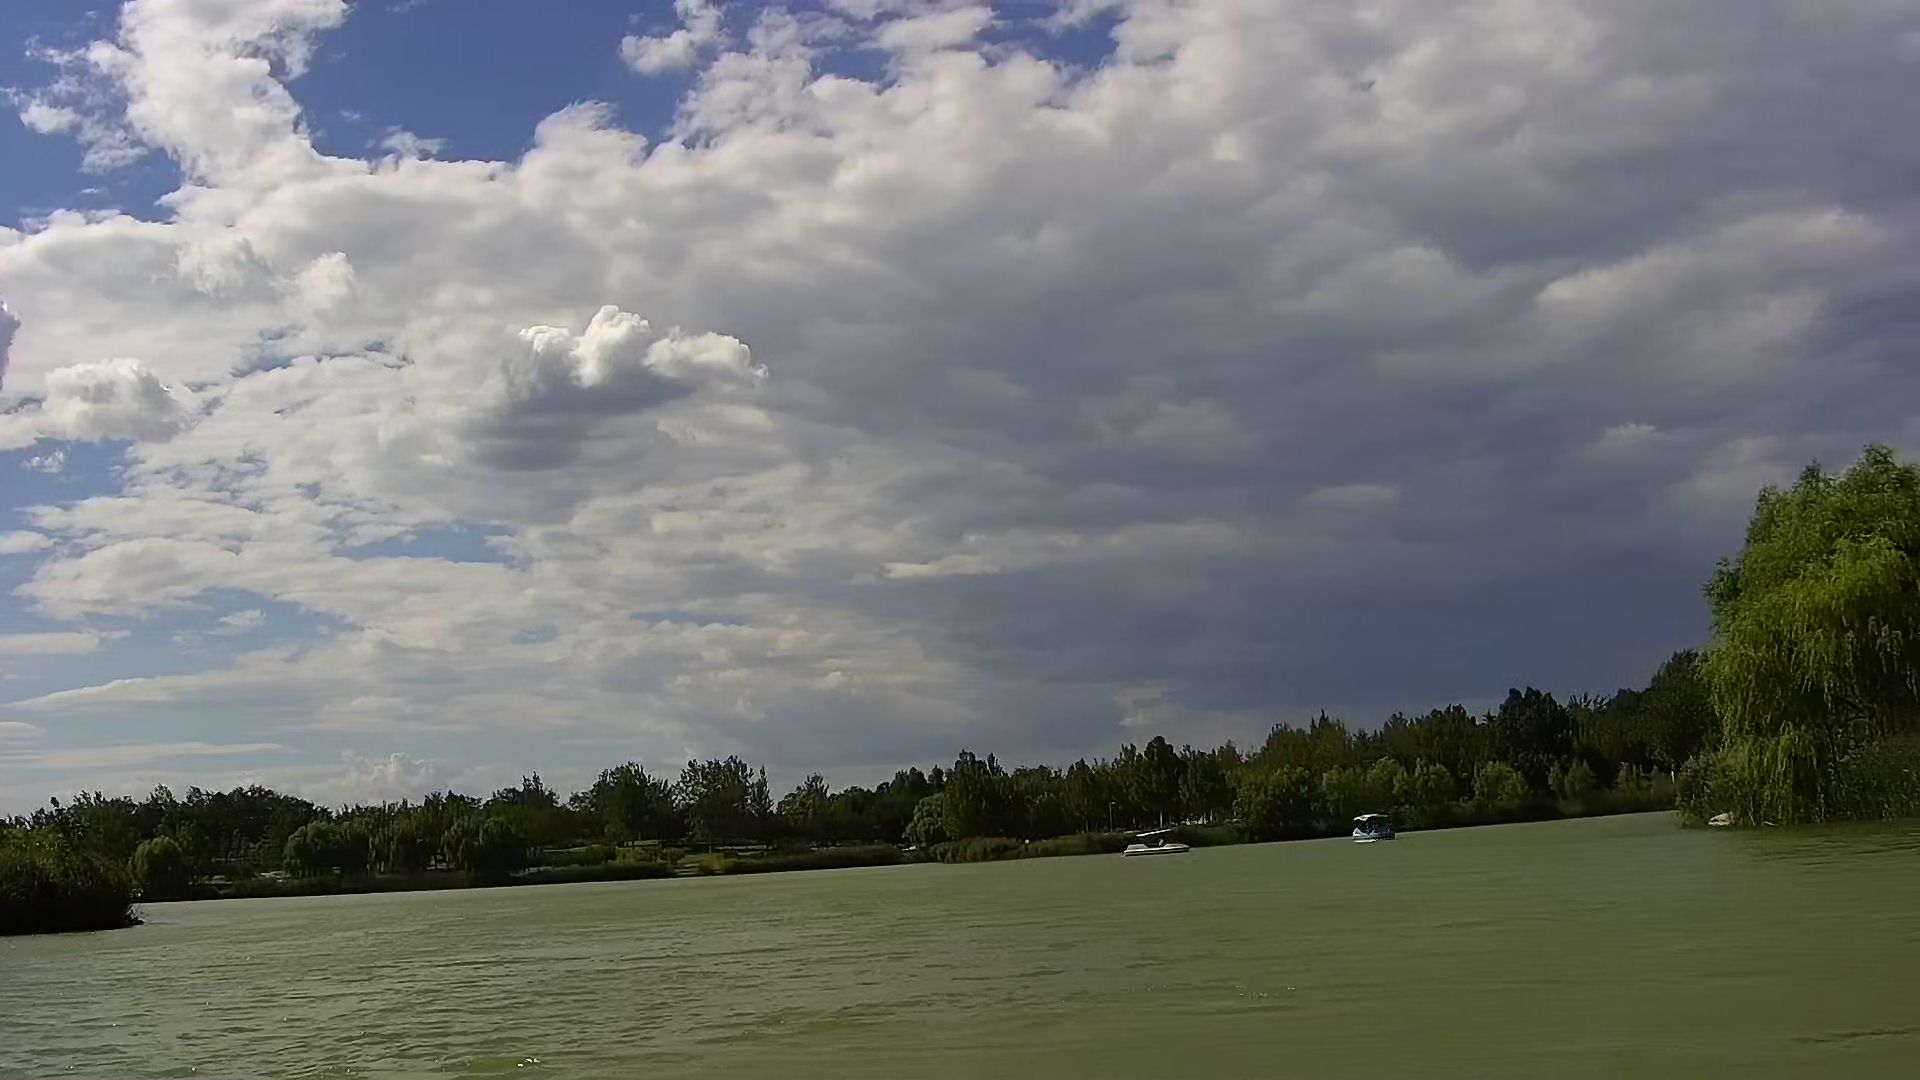boat: (1121, 827, 1191, 856), (1350, 812, 1399, 847)
rock: (1710, 812, 1743, 829)
